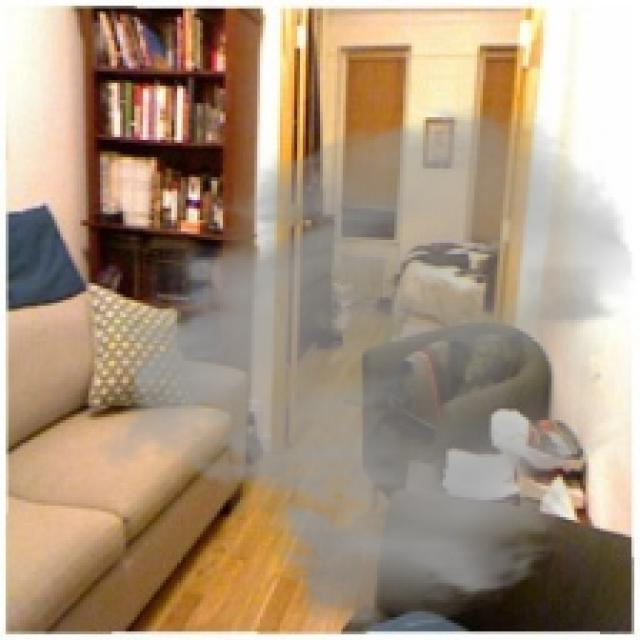smoke: (94, 100, 637, 634)
